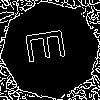E: (25, 25, 75, 65)
